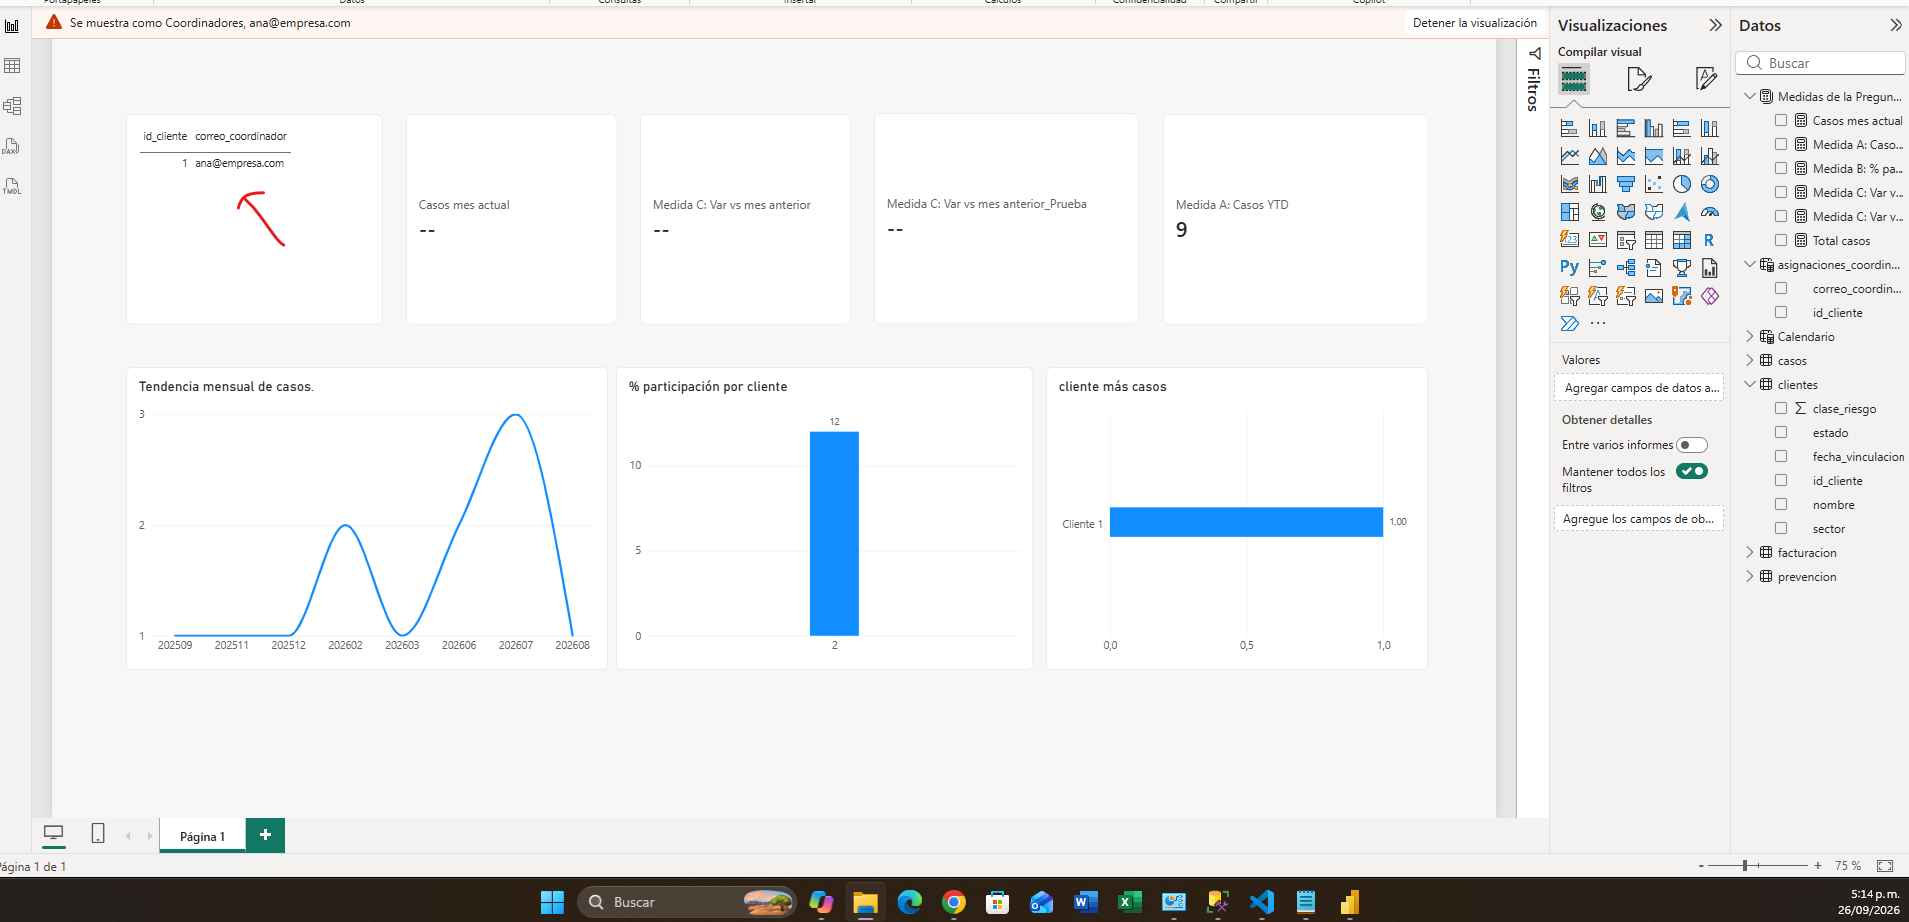

This screenshot's page, from the dashboard's own definition file:
{"tool":"powerbi","page":{"name":"Página 1","canvas":[1920,1080],"ordinal":0},"visuals":[{"type":"cardVisual","fields":{"Data":["Medidas de la Pregunta 1_5.Casos mes actual"]},"box":[470.4,143.1,280,280],"z":0},{"type":"cardVisual","fields":{"Data":["Medidas de la Pregunta 1_5.Medida C: Var vs mes anterior"]},"box":[781.7,143.1,280,280],"z":1},{"type":"cardVisual","fields":{"Data":["Medidas de la Pregunta 1_5.Medida C: Var vs mes anterior_Prueba"]},"box":[1093.1,141.7,352.9,280.4],"z":2},{"type":"cardVisual","fields":{"Data":["Medidas de la Pregunta 1_5.Medida A: Casos YTD"]},"box":[1477.3,143.2,352.9,280.4],"z":3},{"type":"lineChart","title":"Tendencia mensual de casos.","fields":{"Category":["Calendario.AñoMes"],"Y":["Medidas de la Pregunta 1_5.Total casos"]},"box":[98.3,480.6,641.2,402.5],"z":4},{"type":"clusteredColumnChart","title":"% participación por cliente","fields":{"Category":["clientes.clase_riesgo"],"Y":["Medidas de la Pregunta 1_5.Total casos"]},"box":[749.6,480.6,555,402.5],"z":5},{"type":"clusteredBarChart","title":"cliente más casos","fields":{"Category":["clientes.nombre"],"Y":["Medidas de la Pregunta 1_5.Medida B: % participación"]},"box":[1322.1,480.6,507.5,402.5],"z":6},{"type":"tableEx","fields":{"Values":["asignaciones_coordinador.id_cliente","asignaciones_coordinador.correo_coordinador"]},"box":[98,143.1,341,280],"z":7}]}

Visuals, with their boxes on the page's 1920x1080 design canvas (x1, y1, x2, y2). These are canvas units, not pixel positions in the 1909x922 screenshot, which may show the page scaled, cropped or inside an application window:
cardVisual - Medidas de la Pregunta 1_5.Casos mes actual: 470/143/750/423
cardVisual - Medidas de la Pregunta 1_5.Medida C: Var vs mes anterior: 782/143/1062/423
cardVisual - Medidas de la Pregunta 1_5.Medida C: Var vs mes anterior_Prueba: 1093/142/1446/422
cardVisual - Medidas de la Pregunta 1_5.Medida A: Casos YTD: 1477/143/1830/424
"Tendencia mensual de casos." lineChart: 98/481/740/883
"% participación por cliente" clusteredColumnChart: 750/481/1305/883
"cliente más casos" clusteredBarChart: 1322/481/1830/883
tableEx - asignaciones_coordinador.id_cliente x asignaciones_coordinador.correo_coordinador: 98/143/439/423
